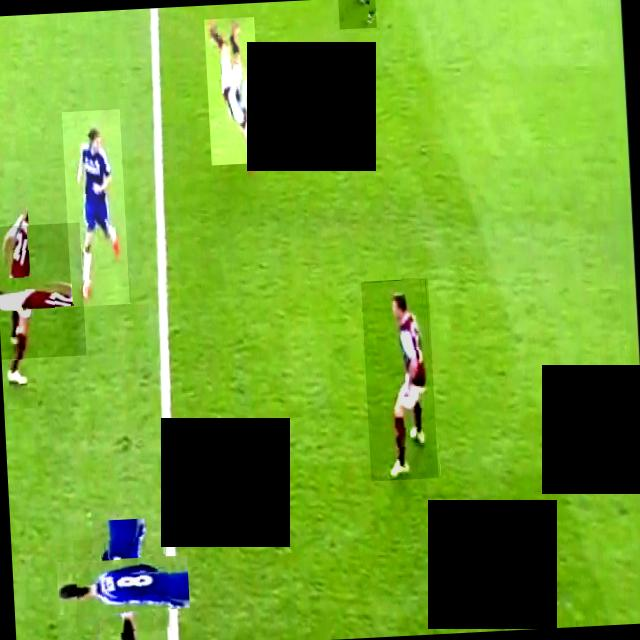referee: (338, 0, 377, 29)
soccer-player: (361, 278, 438, 482), (62, 109, 130, 307), (0, 222, 86, 359), (73, 535, 172, 635), (204, 17, 262, 165)
